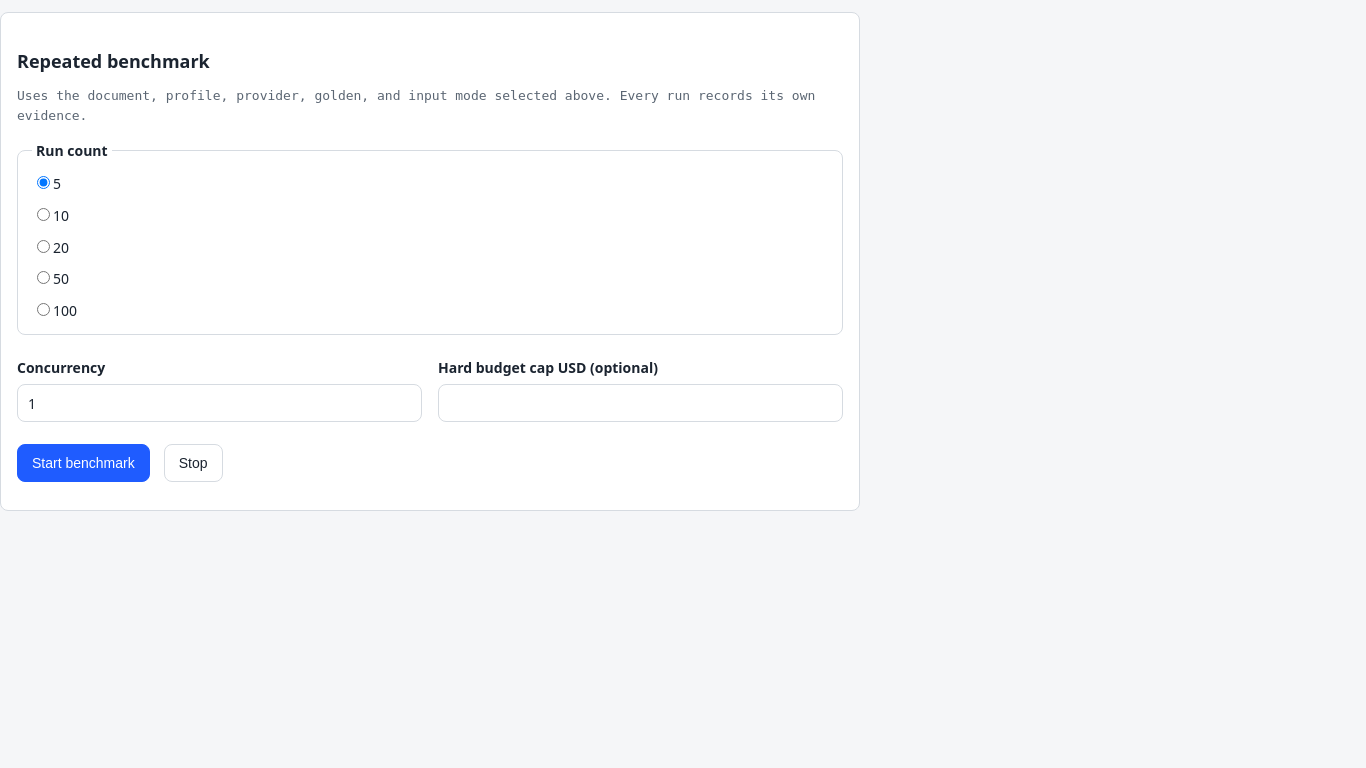
Test case: RepeatedBenchmarkSection › shows progress and a full summary after completion
Click the button "Start benchmark". click: [83, 463]
box: x1=17 y1=444 x2=150 y2=482
(page scrolled)
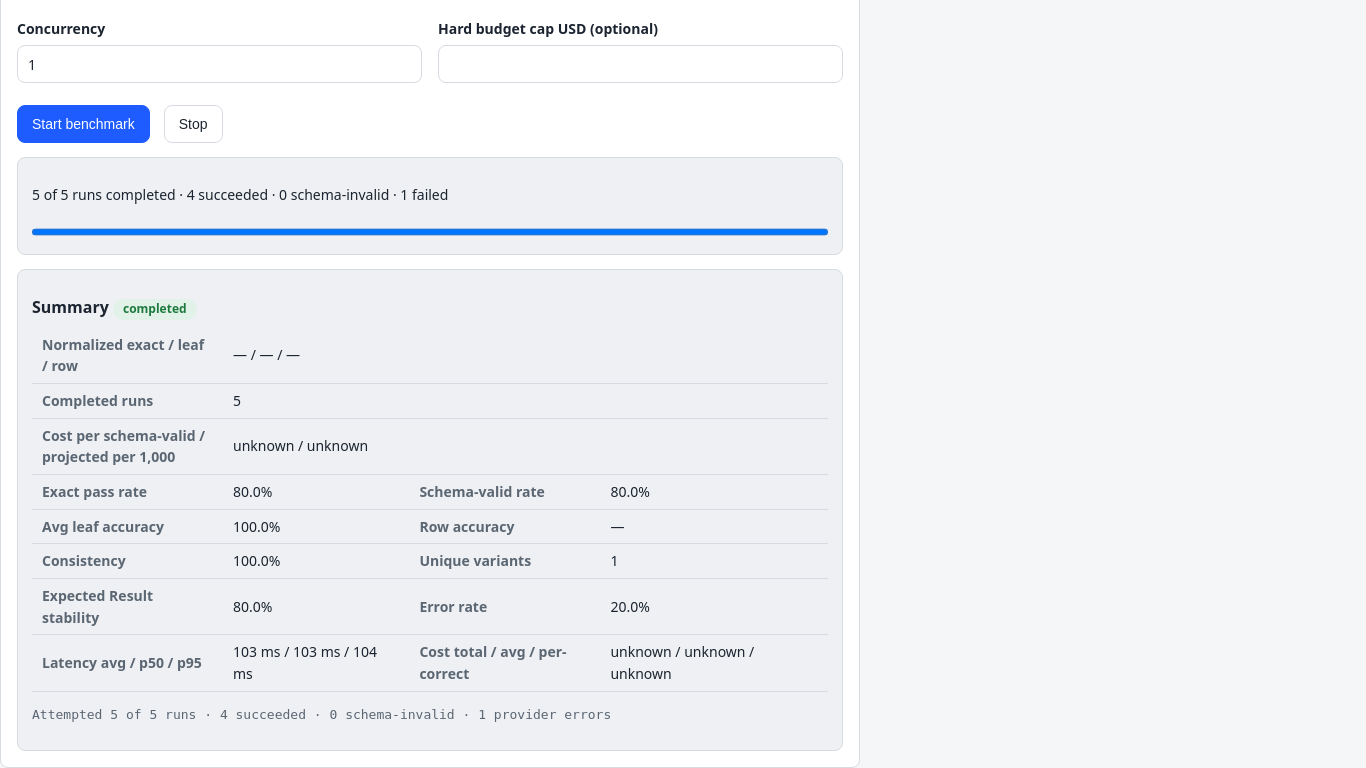
Now the element named "benchmark summary" is shown, box x1=17 y1=269 x2=843 y2=751
Now the text "4 succeeded" is shown, box x1=32 y1=185 x2=448 y2=204
Now the text "1 provider errors" is shown, box x1=32 y1=707 x2=611 y2=722
